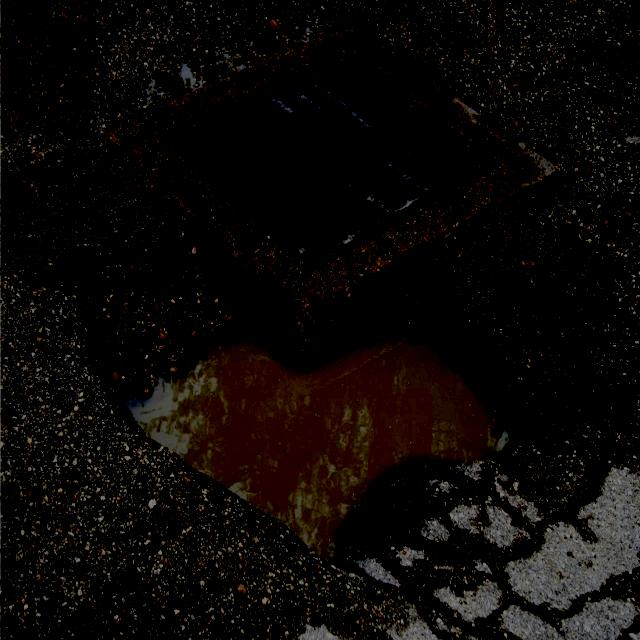Pothole: (67, 198, 589, 579), (103, 21, 556, 382)
